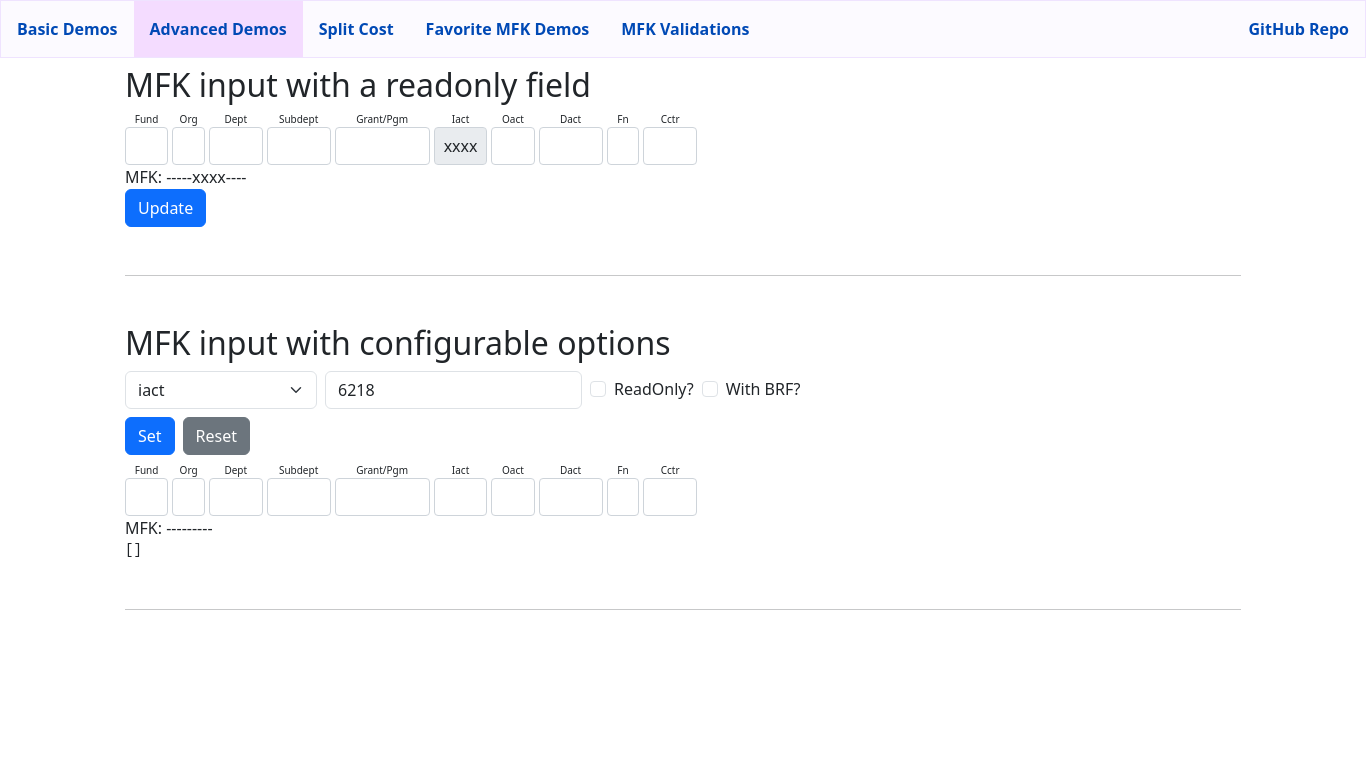
Scenario: Advanced Demos › should preserve the readonly field in an MFK input
Expected: the element showing "-----xxxx----" is shown, x1=166 y1=166 x2=246 y2=188
Click the button with id "update-value1-btn" at [166, 208], box x1=125 y1=189 x2=206 y2=227
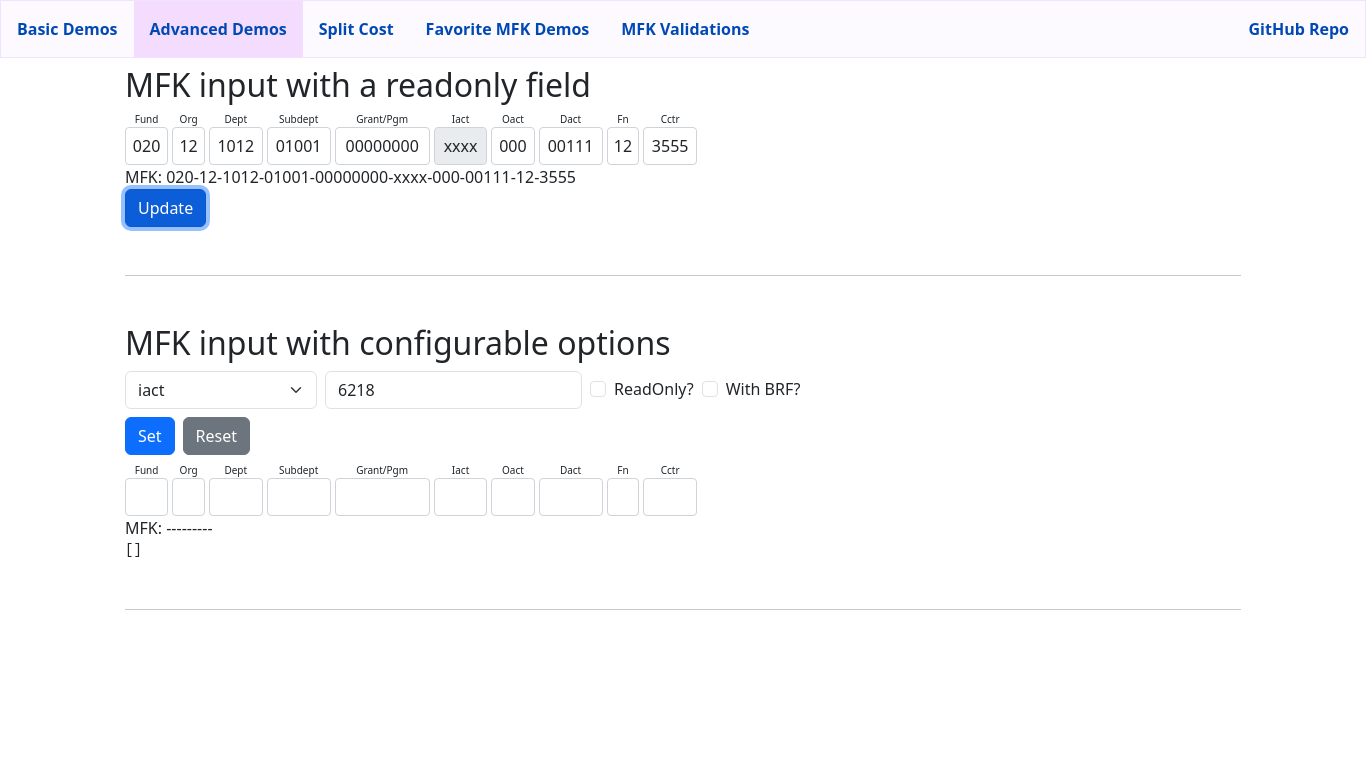
Expected: the field labelled "Iact" below "MFK input with a readonly field" holds "xxxx", x1=434 y1=127 x2=488 y2=165
Now the element showing "020-12-1012-01001-00000000-xxxx-000-00111-12-3555" is shown, box x1=166 y1=166 x2=576 y2=188
